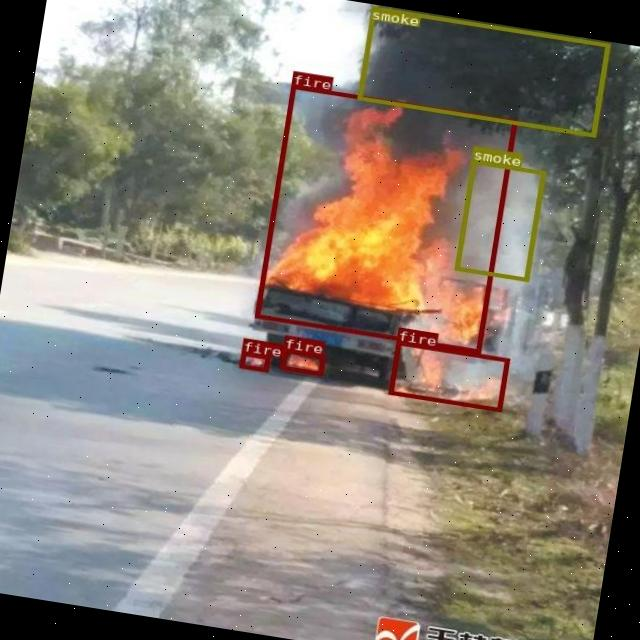fire: (254, 84, 517, 352), (388, 340, 508, 411), (280, 348, 324, 376), (238, 351, 270, 371)
smoke: (357, 6, 610, 137), (454, 159, 546, 281)
